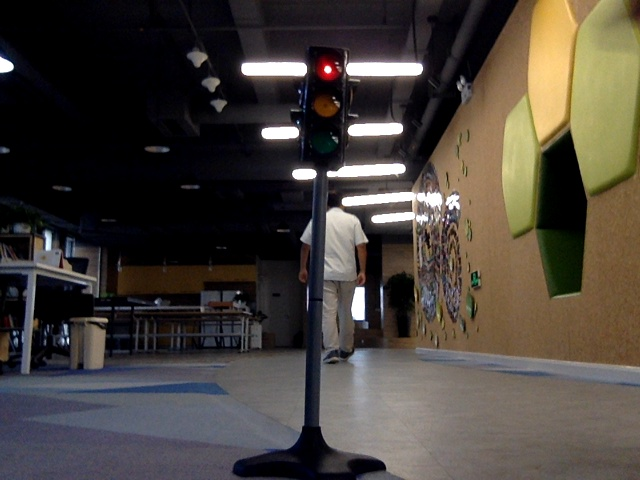red: (306, 53, 343, 157)
